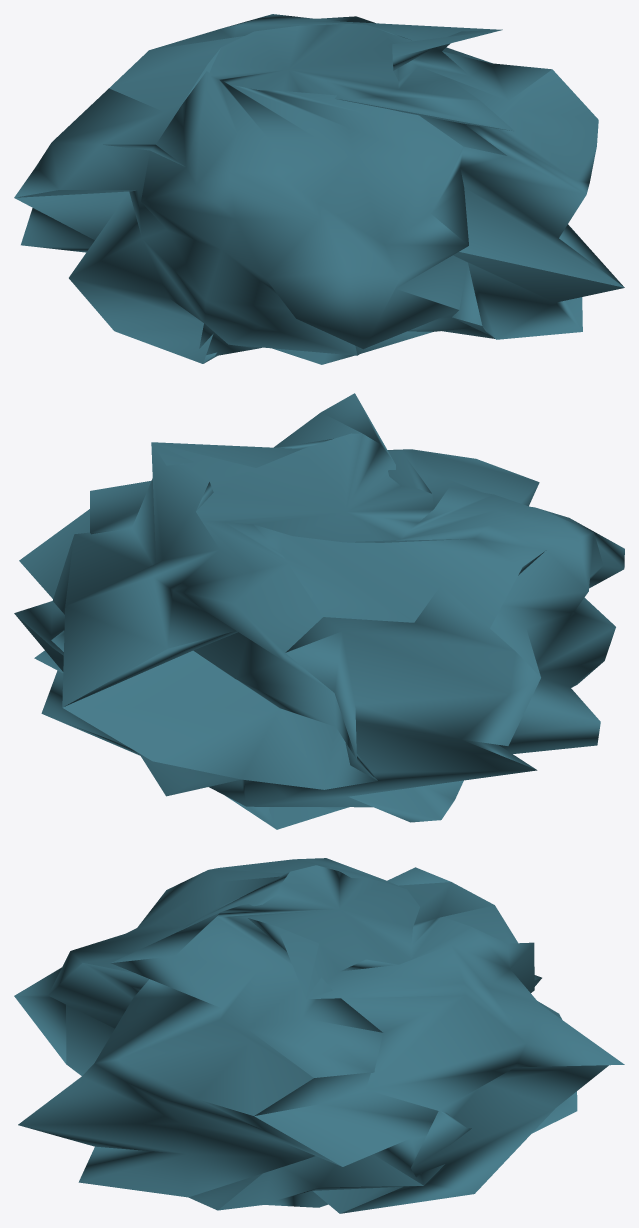
Rendered from SM_SmallTrashkit_Paper_005.fbx.
3 views of the same model, one above another, from view 1: azimuth 30°, elevation 25°; view 2: azimuth 150°, elevation 25°; view 3: azimuth 270°, elevation 25° (orthographic). The views are drawn at different scales.
Visible parts, largest first — view 1: SM_SmallTrashkit_Paper_005; view 2: SM_SmallTrashkit_Paper_005; view 3: SM_SmallTrashkit_Paper_005.
Boxes of the visible parts, x1,y1,x2,y2 form: SM_SmallTrashkit_Paper_005: [14, 14, 624, 364]; SM_SmallTrashkit_Paper_005: [14, 393, 624, 829]; SM_SmallTrashkit_Paper_005: [14, 858, 624, 1213].
Size of the model in its own units: 16.23 by 8.01 by 16.64.
